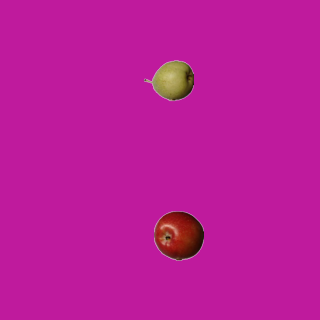Apple Braeburn: (153, 210, 203, 260)
Pear: (143, 55, 193, 105)
